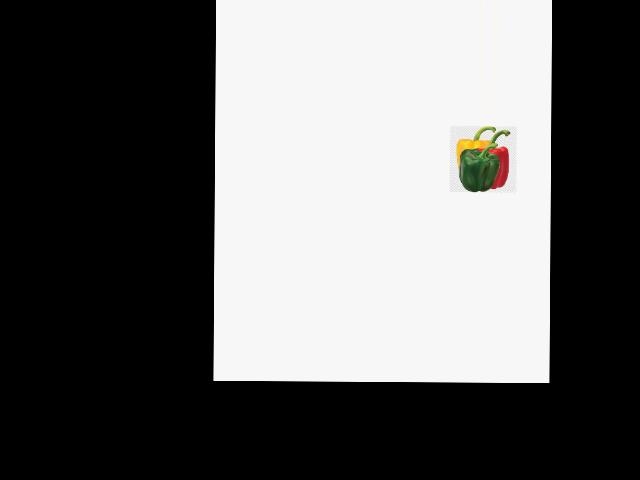bell_pepper: (478, 128, 517, 190)
